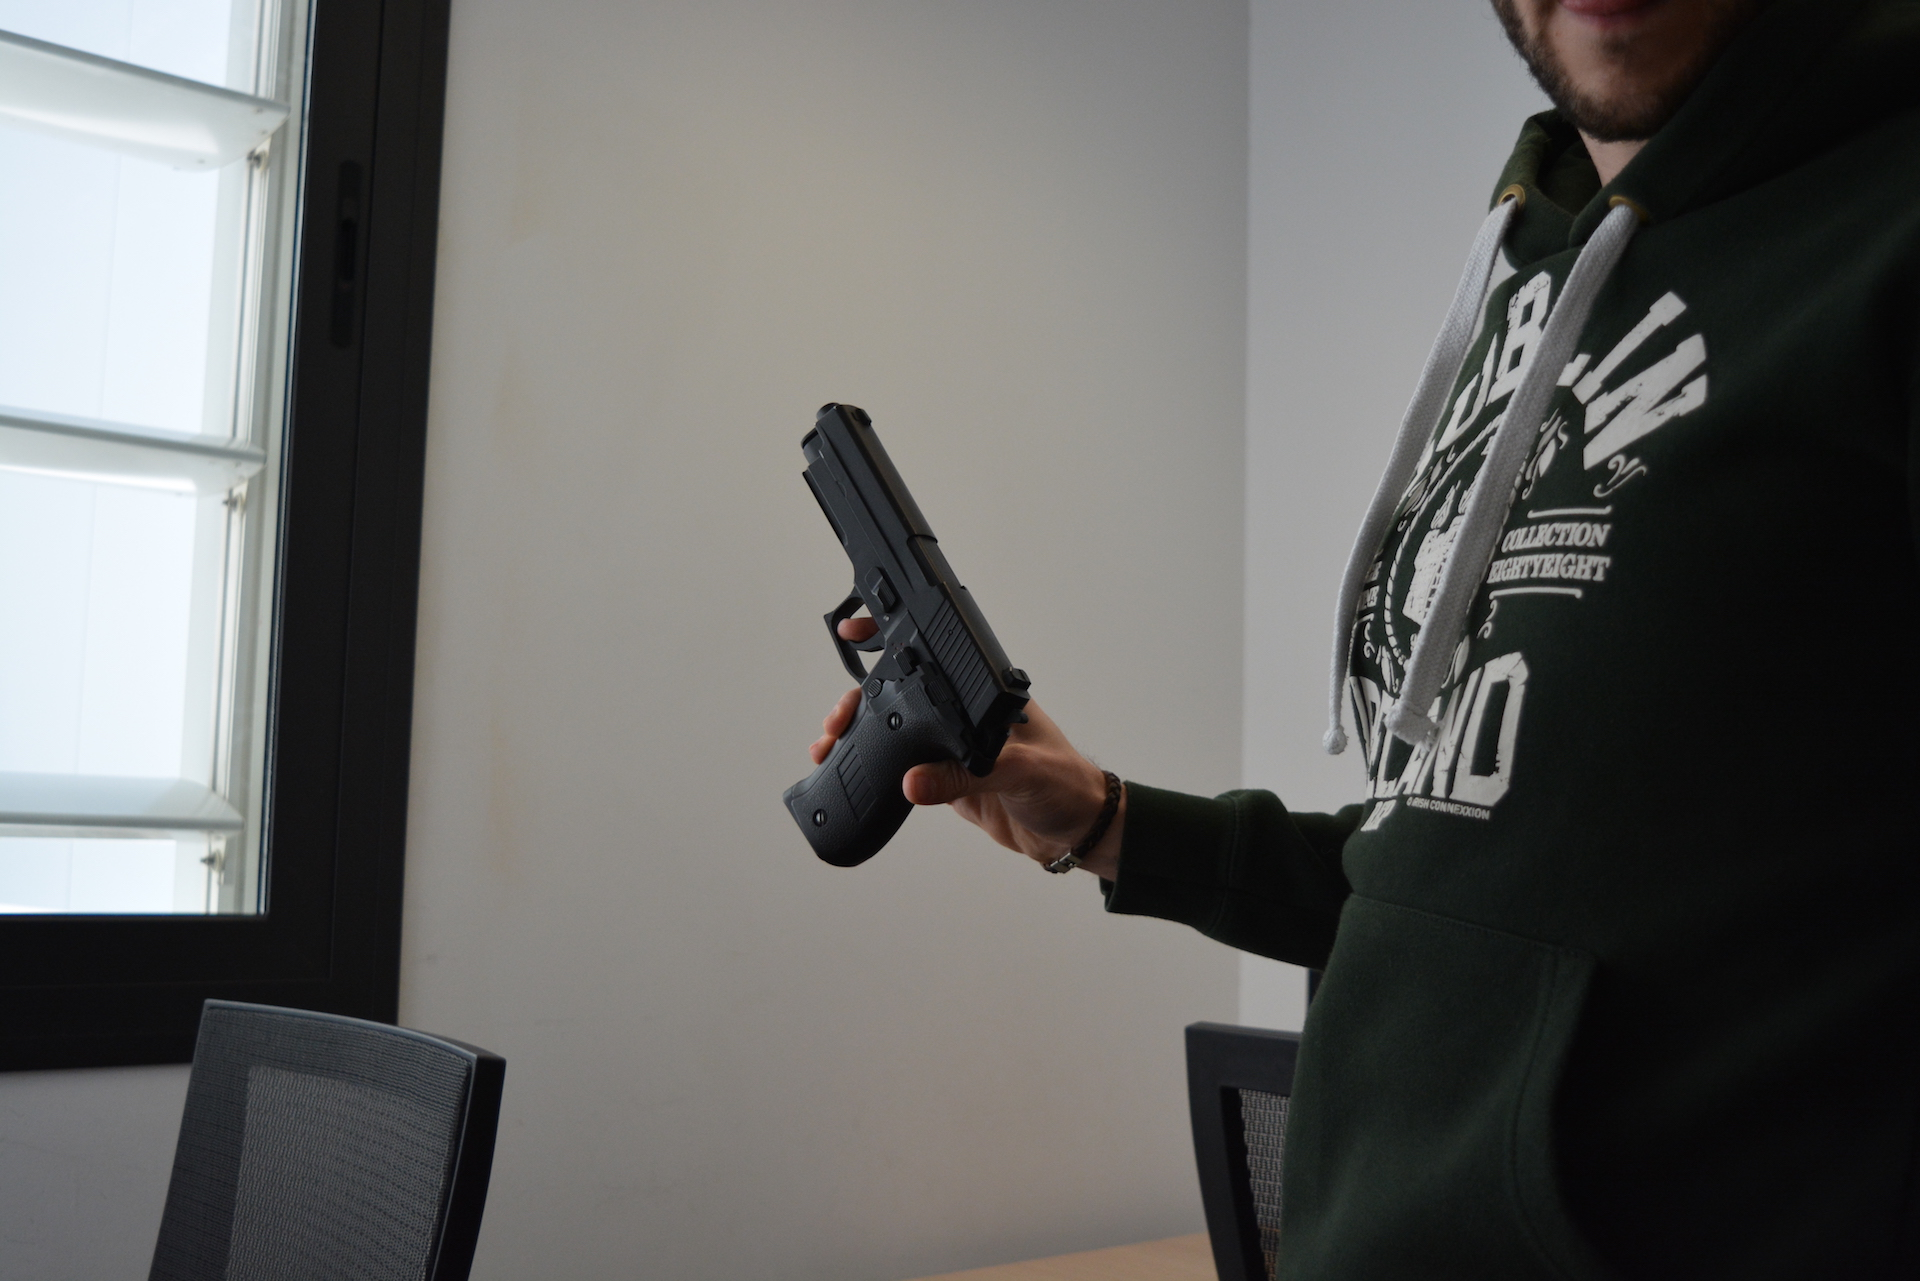pistol: (781, 397, 1036, 869)
